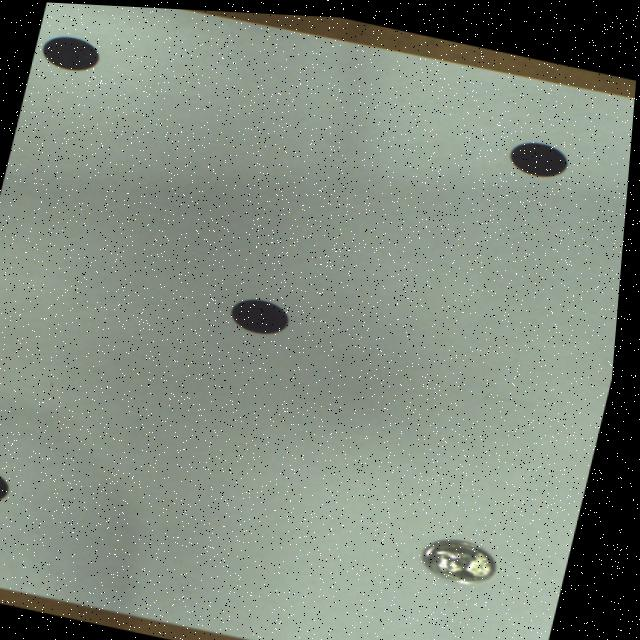head1bath: (432, 533, 506, 578)
space: (237, 295, 295, 331), (512, 136, 570, 170), (44, 35, 100, 69), (0, 471, 18, 501)
